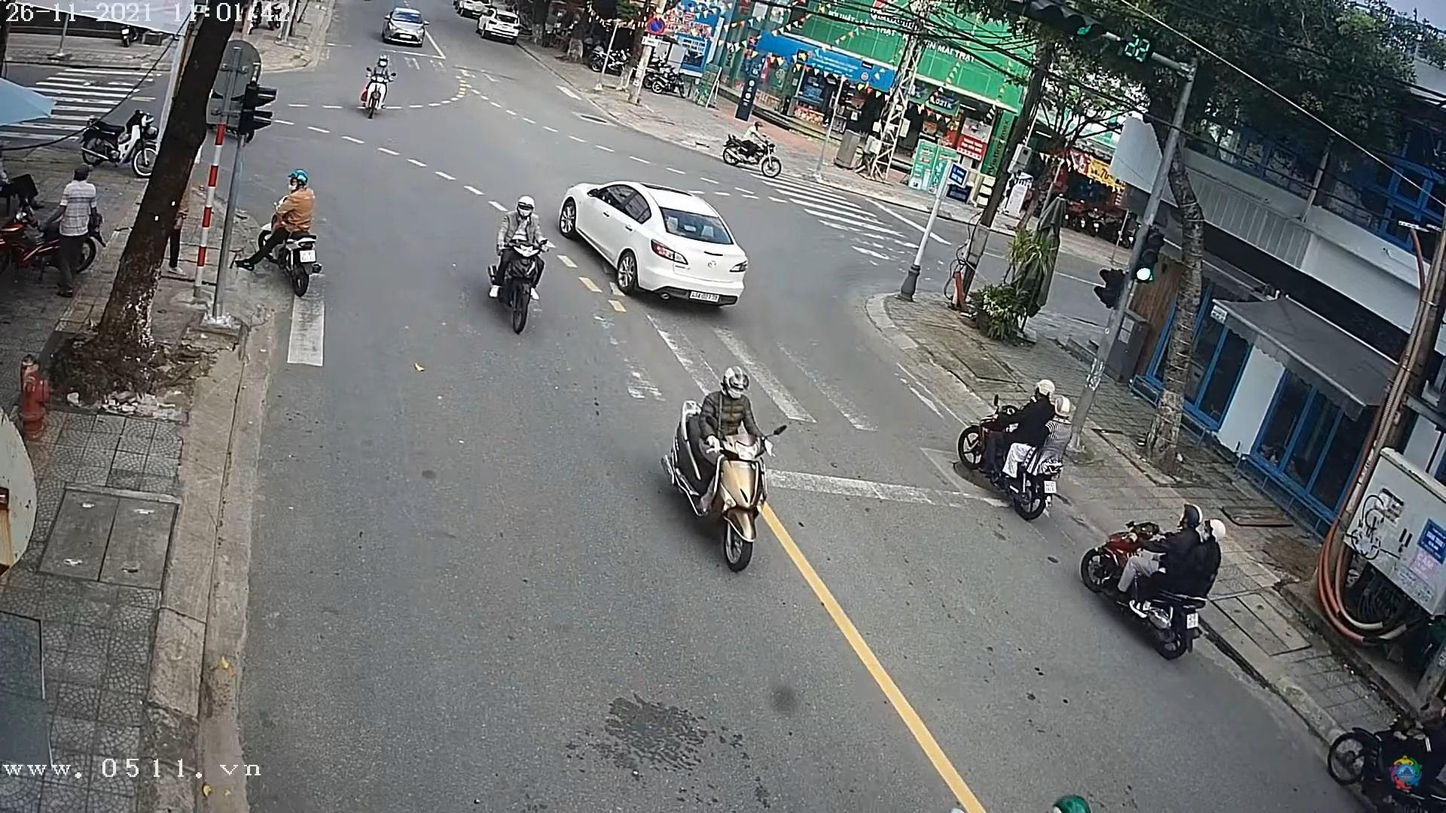car: (555, 181, 751, 311), (385, 7, 429, 44), (453, 2, 497, 21)
motorbike: (1075, 507, 1215, 663), (669, 400, 778, 577), (961, 396, 1064, 522), (251, 193, 325, 299), (490, 227, 543, 338), (720, 134, 784, 181), (358, 69, 391, 121)
